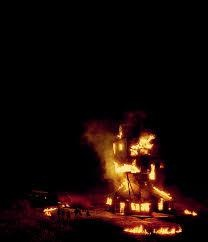fire: (100, 123, 175, 219)
